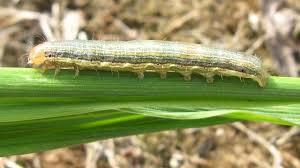fallarmy_worm: (22, 34, 272, 97)
